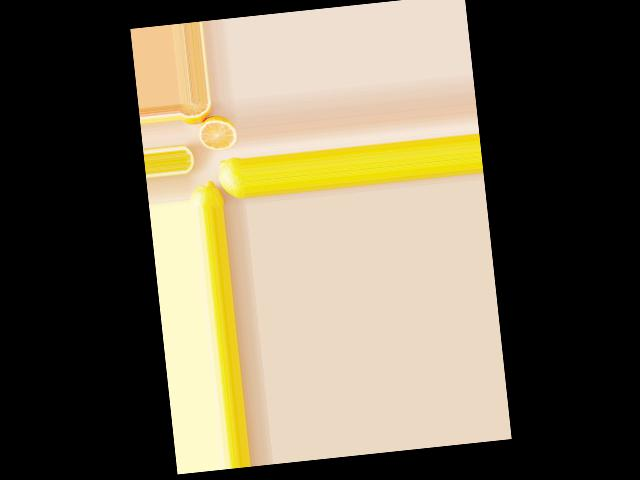lemon: (188, 176, 225, 210)
